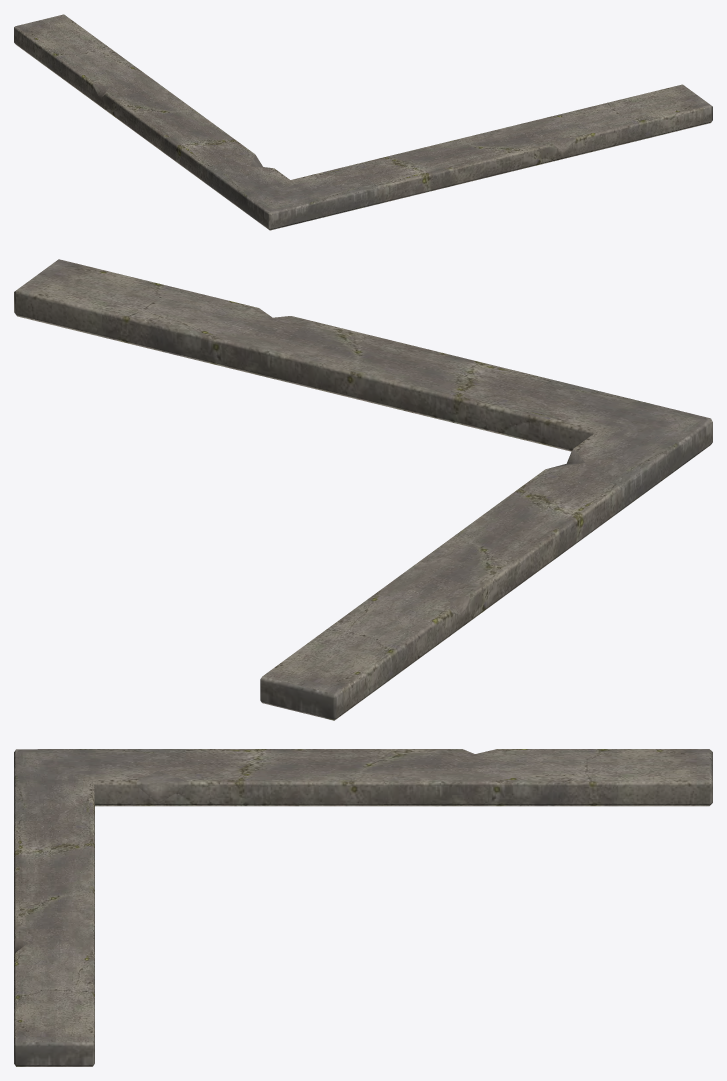
File: kerb_125x300_corner.glb
3 renders of one model, top to bottom at view 1: azimuth 30°, elevation 25°; view 2: azimuth 150°, elevation 25°; view 3: azimuth 270°, elevation 25°, orthographic. The views are drawn at different scales.
Parts seen in each view (by area): view 1: kerb_125x300_corner; view 2: kerb_125x300_corner; view 3: kerb_125x300_corner.
Boxes of the visible parts, box(x1,y1,x2,y2) form: kerb_125x300_corner: box(14, 14, 712, 230); kerb_125x300_corner: box(14, 259, 712, 720); kerb_125x300_corner: box(14, 749, 712, 1066).
Size of the model in its own units: 3.25 by 0.1268 by 3.25.
1 material, 1 textured.
